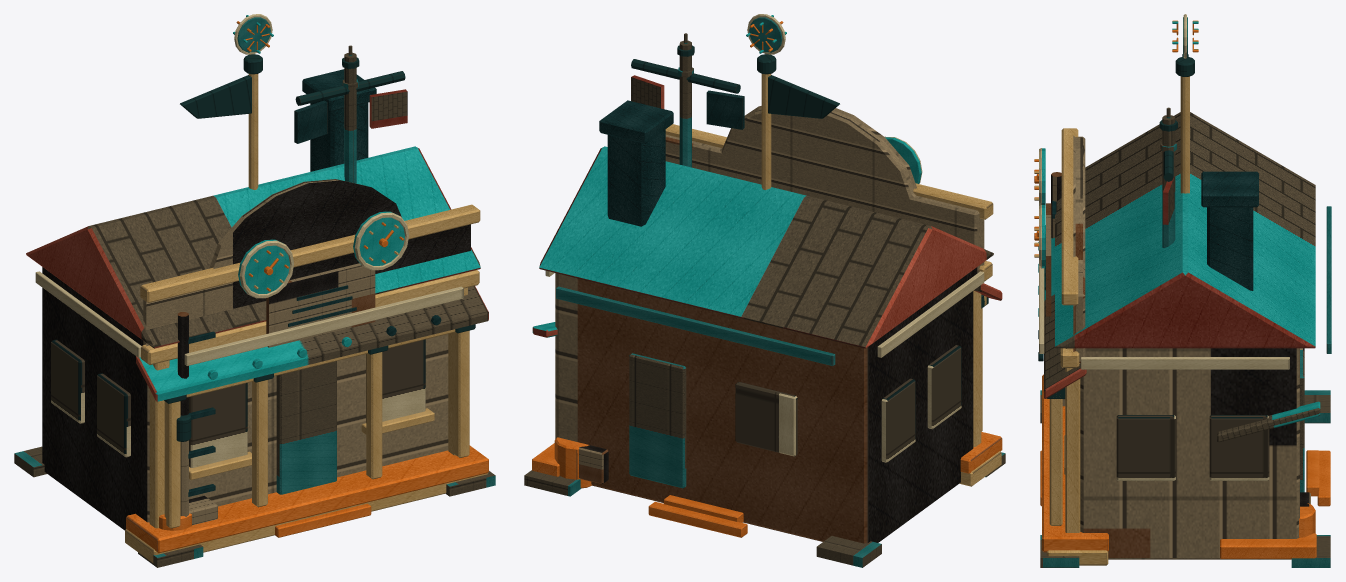
The model's file is claim-office.e6.glb.
3 views of the same model, side by side, from view 1: azimuth 30°, elevation 25°; view 2: azimuth 150°, elevation 25°; view 3: azimuth 270°, elevation 25° (orthographic).
Parts seen in each view (by area): view 1: HalfLifeRegistryE6; view 2: HalfLifeRegistryE6; view 3: HalfLifeRegistryE6.
Boxes of the visible parts, bbox=[...] form: HalfLifeRegistryE6: bbox=[14, 14, 495, 567]; HalfLifeRegistryE6: bbox=[524, 14, 1005, 567]; HalfLifeRegistryE6: bbox=[1034, 14, 1331, 567].
Size of the model in its own units: 4.26 by 5.54 by 3.2.
1 material, 1 textured.
